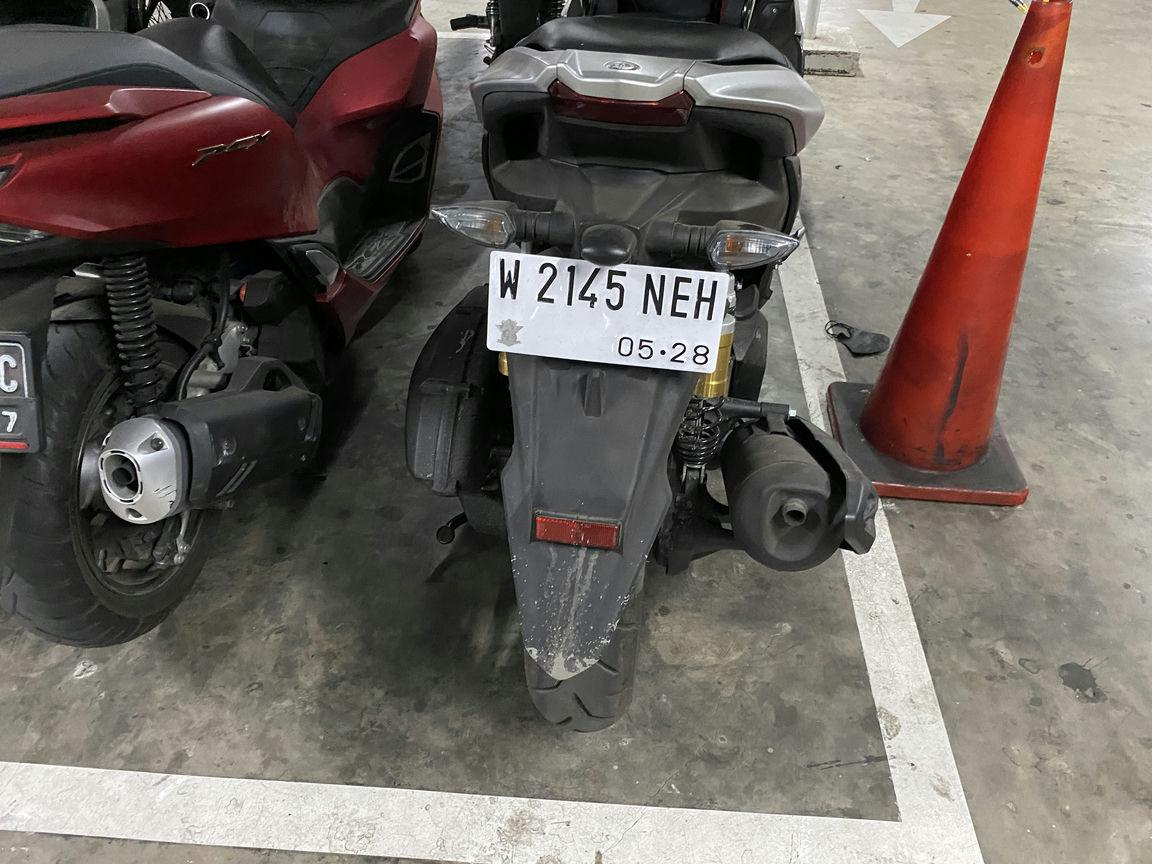plat: (486, 250, 729, 374)
